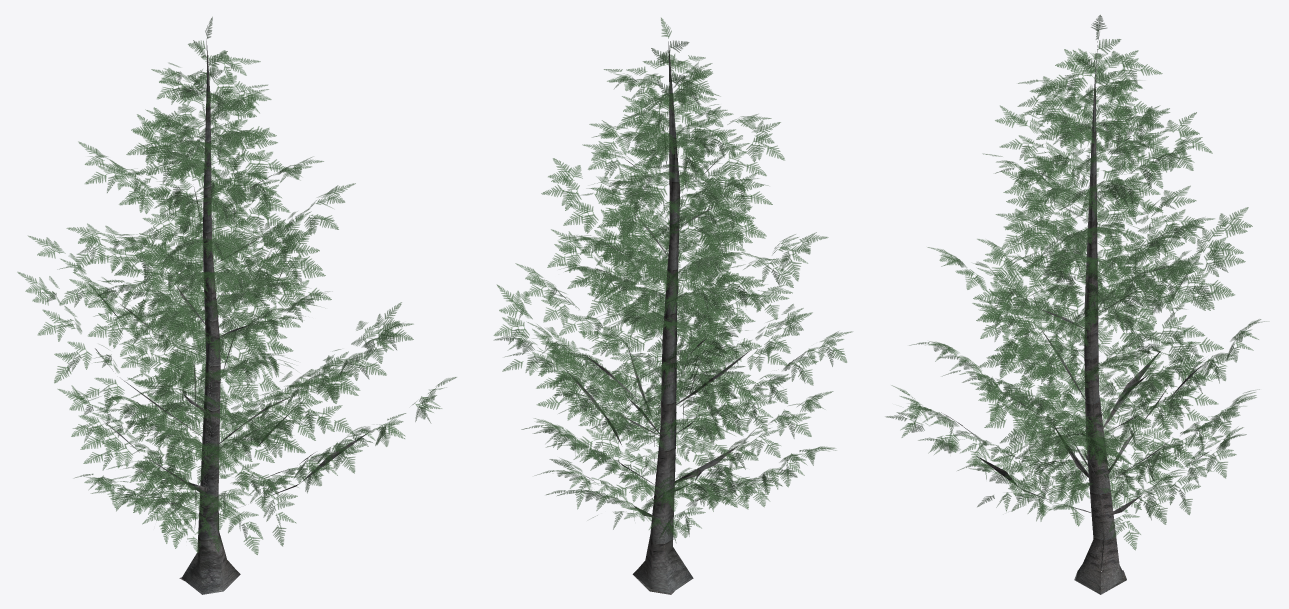
The model's file is tree_type_05.glb.
3 views of the same model, side by side, from view 1: azimuth 30°, elevation 25°; view 2: azimuth 150°, elevation 25°; view 3: azimuth 270°, elevation 25° (orthographic).
Visible parts, largest first — view 1: tree_type_05; view 2: tree_type_05; view 3: tree_type_05.
Part boxes in pixels (<box>): tree_type_05: <box>17,17,456,594</box>; tree_type_05: <box>493,17,852,594</box>; tree_type_05: <box>885,15,1266,594</box>.
Size of the model in its own units: 10.2 by 16.28 by 10.19.
Materials: 2 (2 with a texture image).
